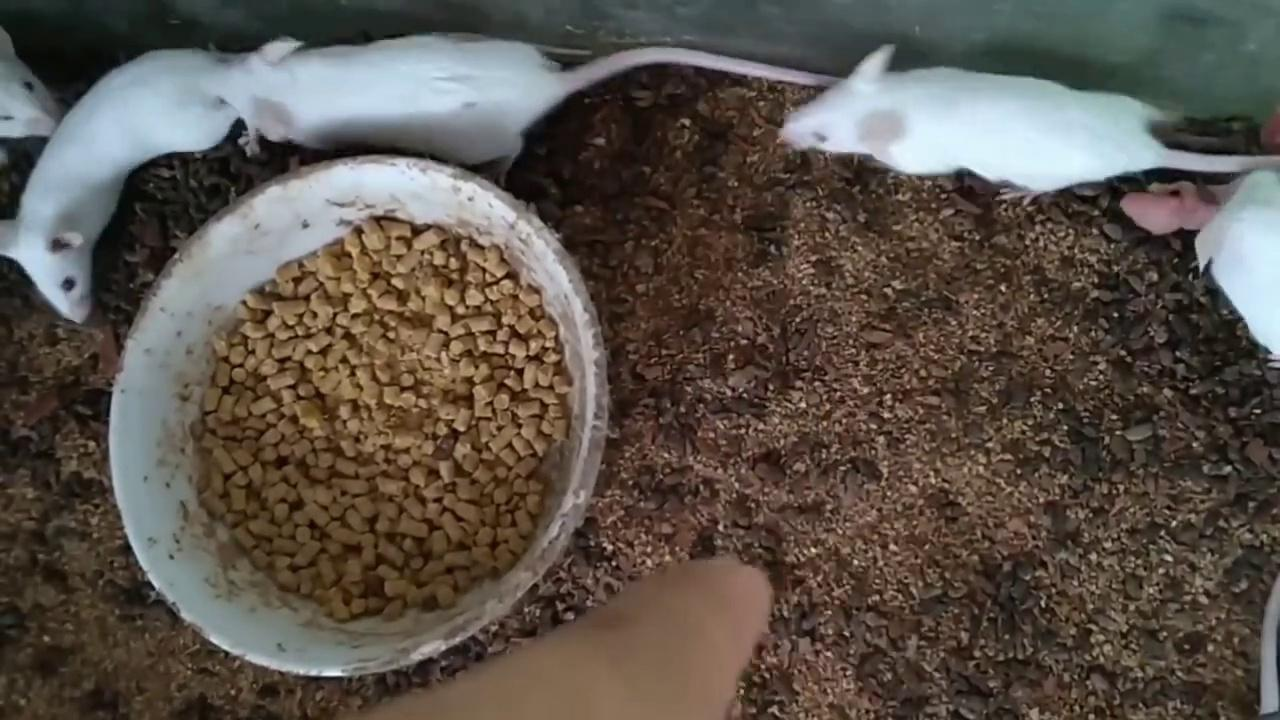rat: (0, 48, 242, 324), (777, 41, 1170, 209), (203, 35, 566, 186), (0, 25, 60, 137)
